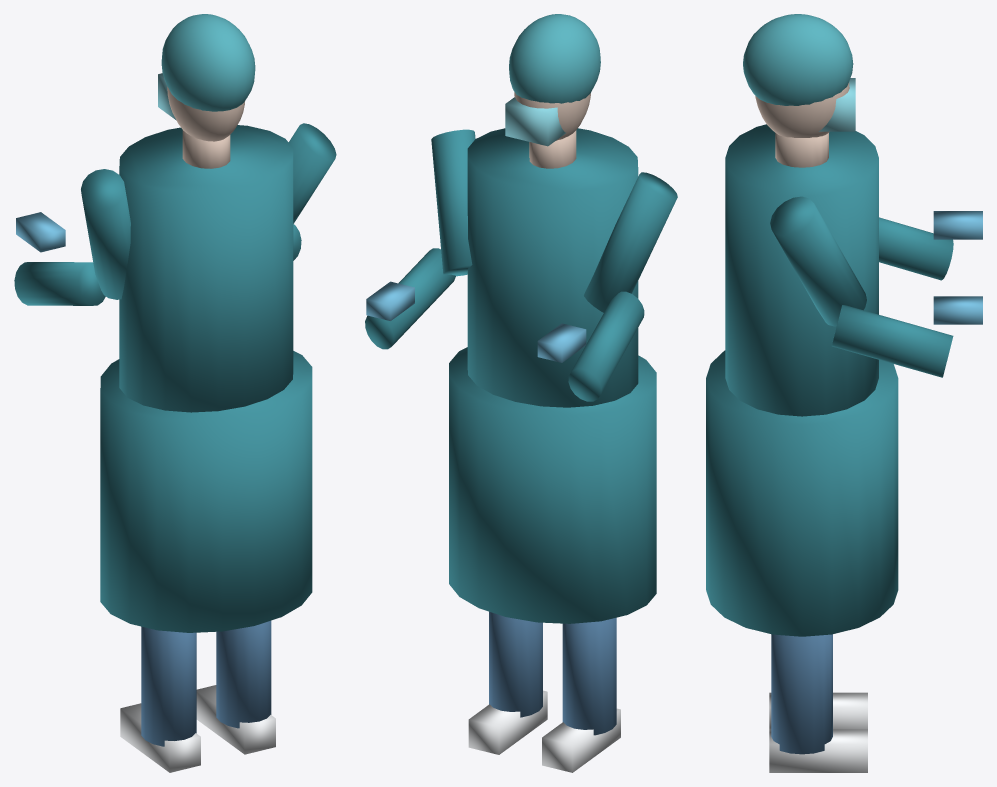
The model's file is Character_Surgeon_Assistant.glb.
3 views of the same model, side by side, from view 1: azimuth 30°, elevation 25°; view 2: azimuth 150°, elevation 25°; view 3: azimuth 270°, elevation 25° (orthographic).
Parts seen in each view (by area): view 1: Character_Surgeon_Assistant; view 2: Character_Surgeon_Assistant; view 3: Character_Surgeon_Assistant.
Boxes of the visible parts, bbox=[...] form: Character_Surgeon_Assistant: bbox=[14, 14, 336, 772]; Character_Surgeon_Assistant: bbox=[365, 14, 677, 772]; Character_Surgeon_Assistant: bbox=[706, 14, 982, 772].
Size of the model in its own units: 0.7259 by 2.06 by 0.7077.
